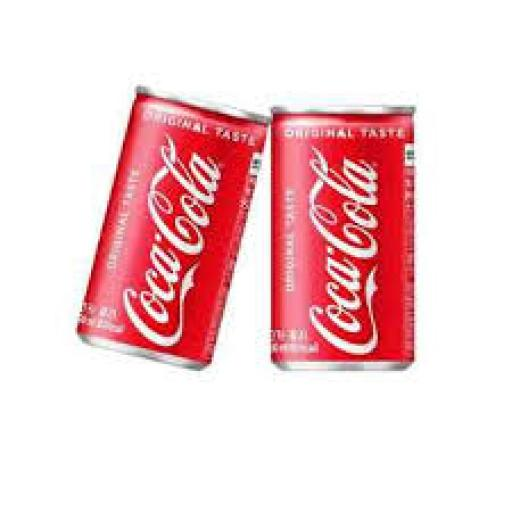Coca: (76, 70, 268, 377), (269, 92, 420, 379)
